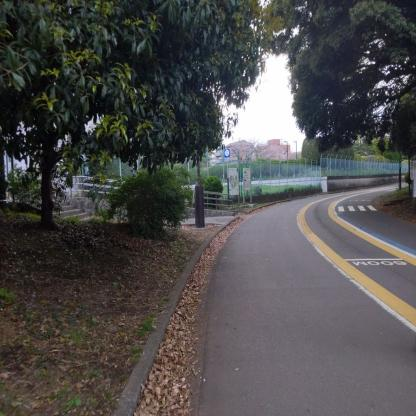Someiyoshino: (221, 133, 302, 169)
